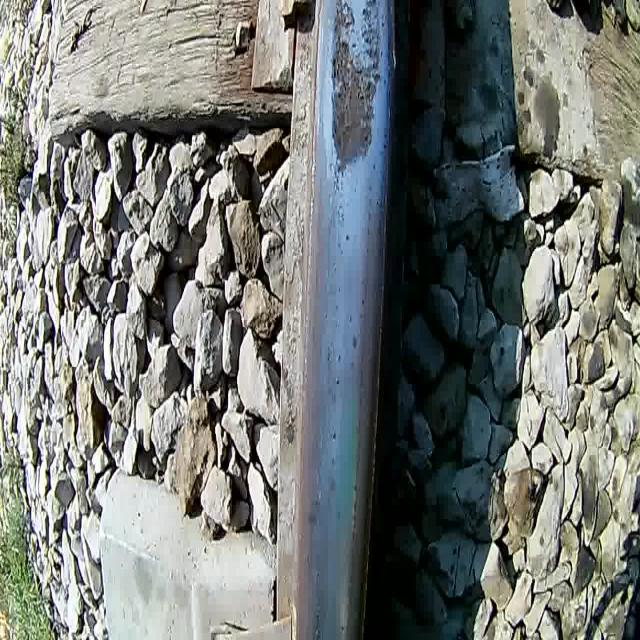Spallings: (332, 1, 384, 108)
Squats: (326, 0, 385, 181)
